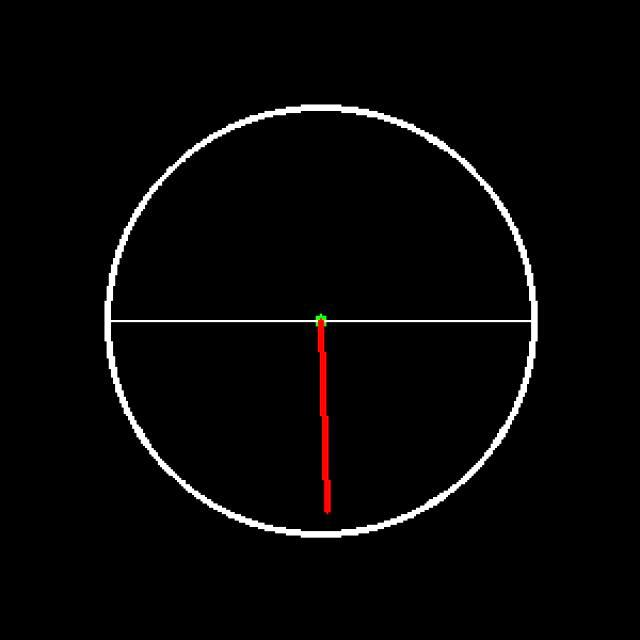Needle_Tip: (305, 482, 346, 528)
Needle_base: (285, 299, 358, 361)
